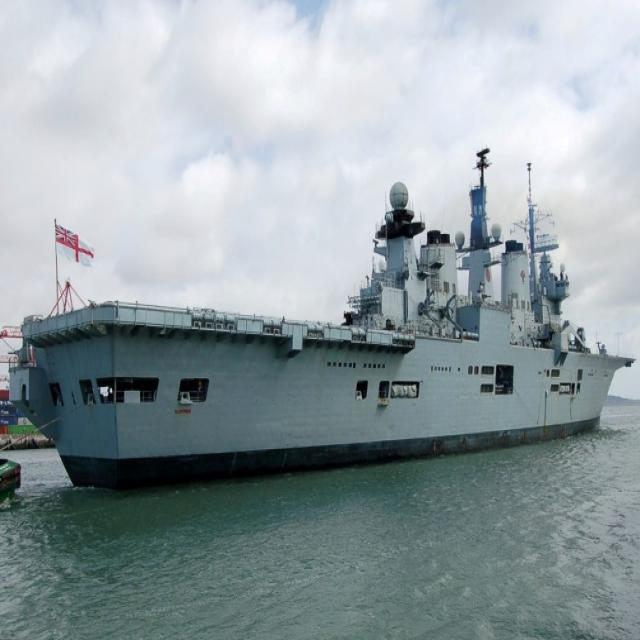Portanaves: (8, 139, 640, 494)
